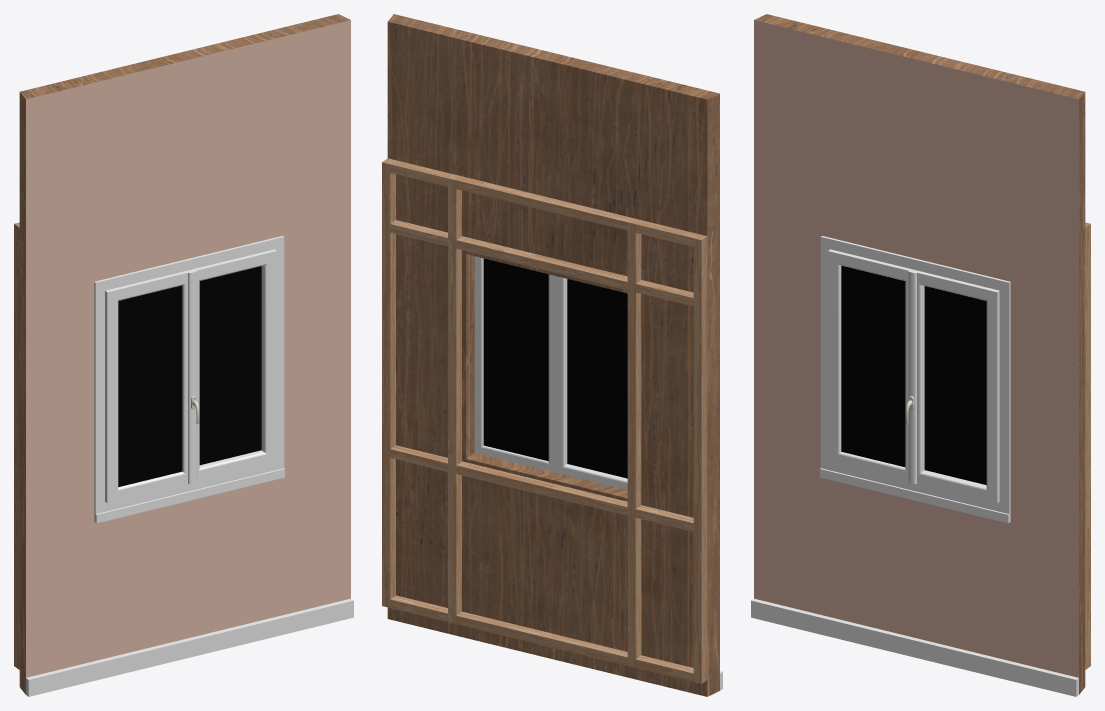
File: MovieSet_WallWindow_01.fbx
The picture shows the model from 3 angles, left to right: view 1: azimuth 30°, elevation 25°; view 2: azimuth 150°, elevation 25°; view 3: azimuth 330°, elevation 25°; orthographic projection.
Parts seen in each view (by area): view 1: MovieSet_Wall_Window_01; view 2: MovieSet_Wall_Window_01; view 3: MovieSet_Wall_Window_01.
Boxes of the visible parts, x1,y1,x2,y2 form: MovieSet_Wall_Window_01: [14, 14, 353, 696]; MovieSet_Wall_Window_01: [382, 14, 722, 696]; MovieSet_Wall_Window_01: [751, 14, 1090, 696].
Bounding box in the file's own units: 2 × 3.5 × 0.2688.
